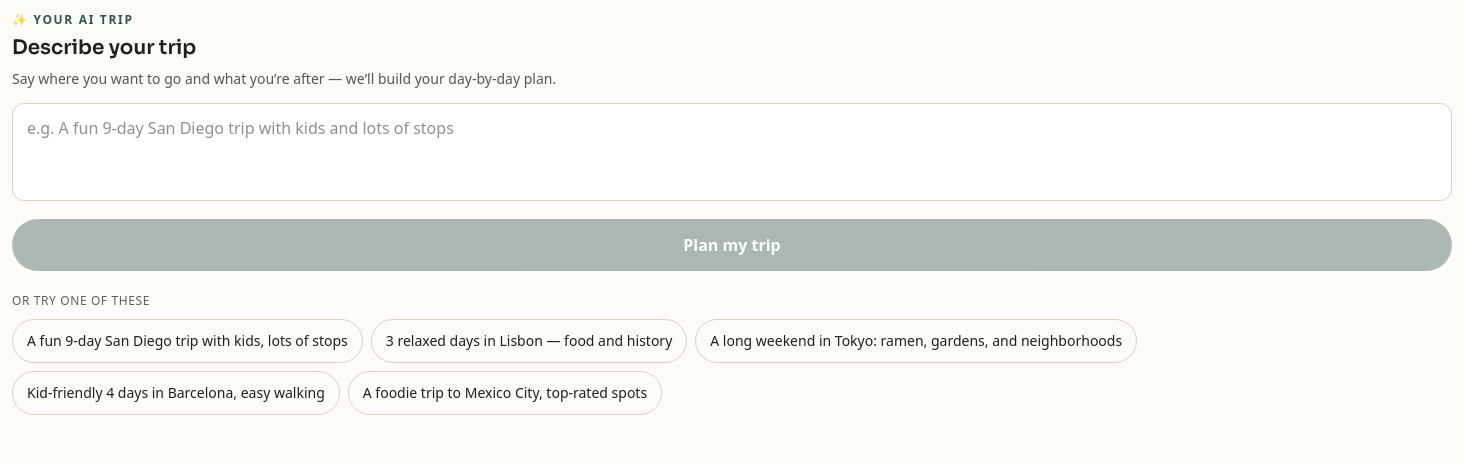
Test: HomeAiPlanner › asks for a place when the request names none
Type "somewhere relaxing" into the text box with placeholder "e.g. A fun 9-day San Diego trip with kids and lots of stops". click: (732, 152)
box: [12,103,1452,201]
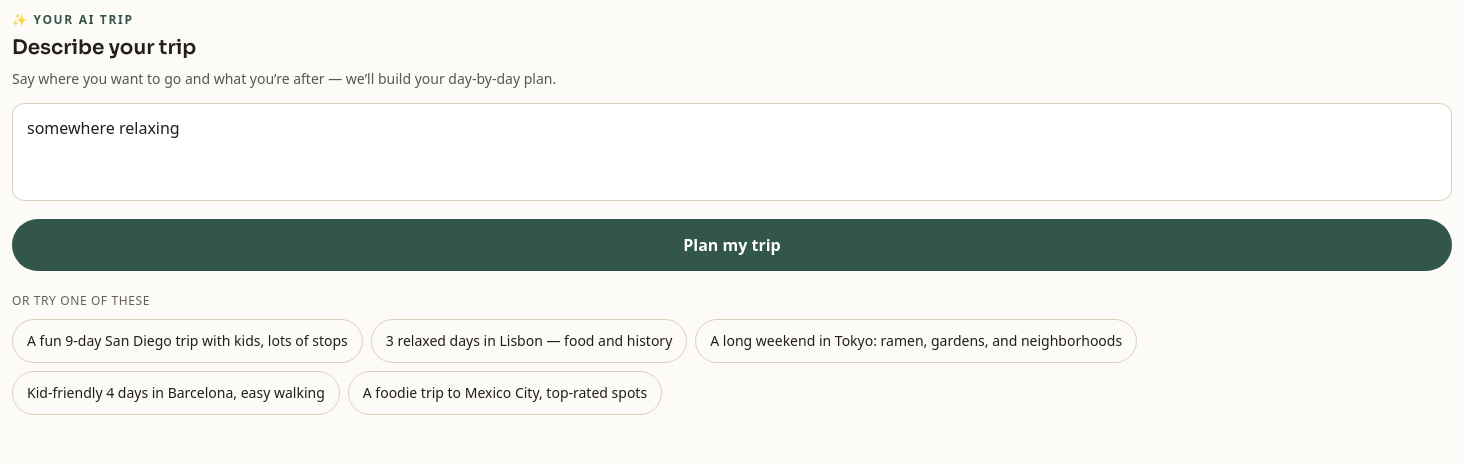
Click the button "Plan my trip". click: (732, 245)
box: [12,219,1452,271]
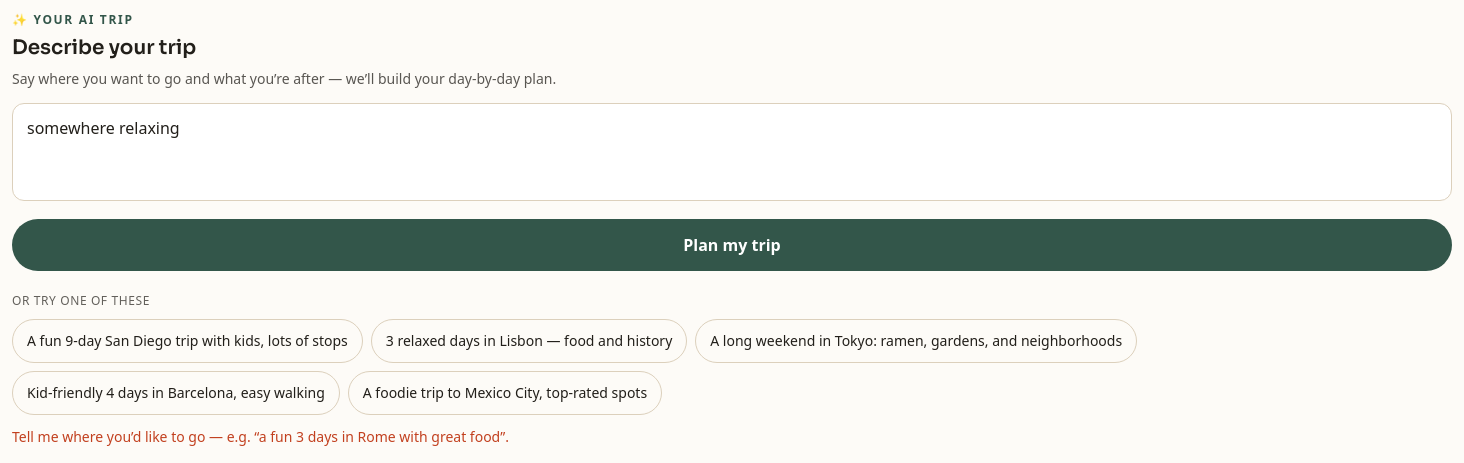
Result: the message reads "Tell me where you’d like to go — e.g. “a fun 3 days in Rome with great food”." at [12,427,509,446]
